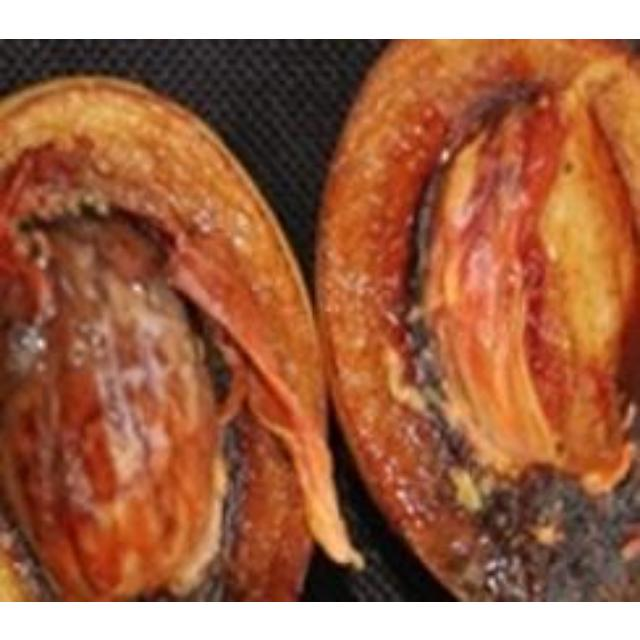damaged: (0, 75, 365, 599), (315, 38, 637, 599)
